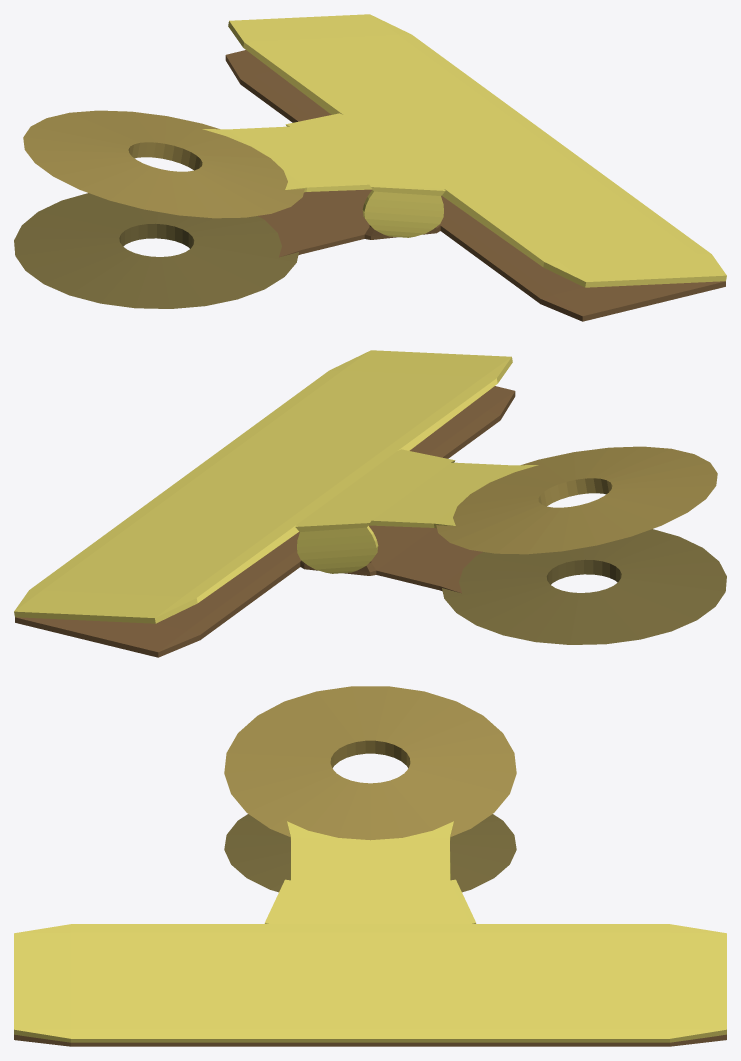
The model's file is binderclipvintage_modelingfbx.fbx.
The picture shows the model from 3 angles, top to bottom: view 1: azimuth 30°, elevation 25°; view 2: azimuth 150°, elevation 25°; view 3: azimuth 270°, elevation 25°; orthographic projection.
Parts seen in each view (by area): view 1: binderclipvintage_modelingfbx; view 2: binderclipvintage_modelingfbx; view 3: binderclipvintage_modelingfbx.
Part boxes in pixels (bbox=[...]): binderclipvintage_modelingfbx: bbox=[14, 14, 726, 321]; binderclipvintage_modelingfbx: bbox=[14, 350, 726, 657]; binderclipvintage_modelingfbx: bbox=[14, 686, 726, 1046].
Size of the model in its own units: 54.02 by 11.01 by 63.38.
